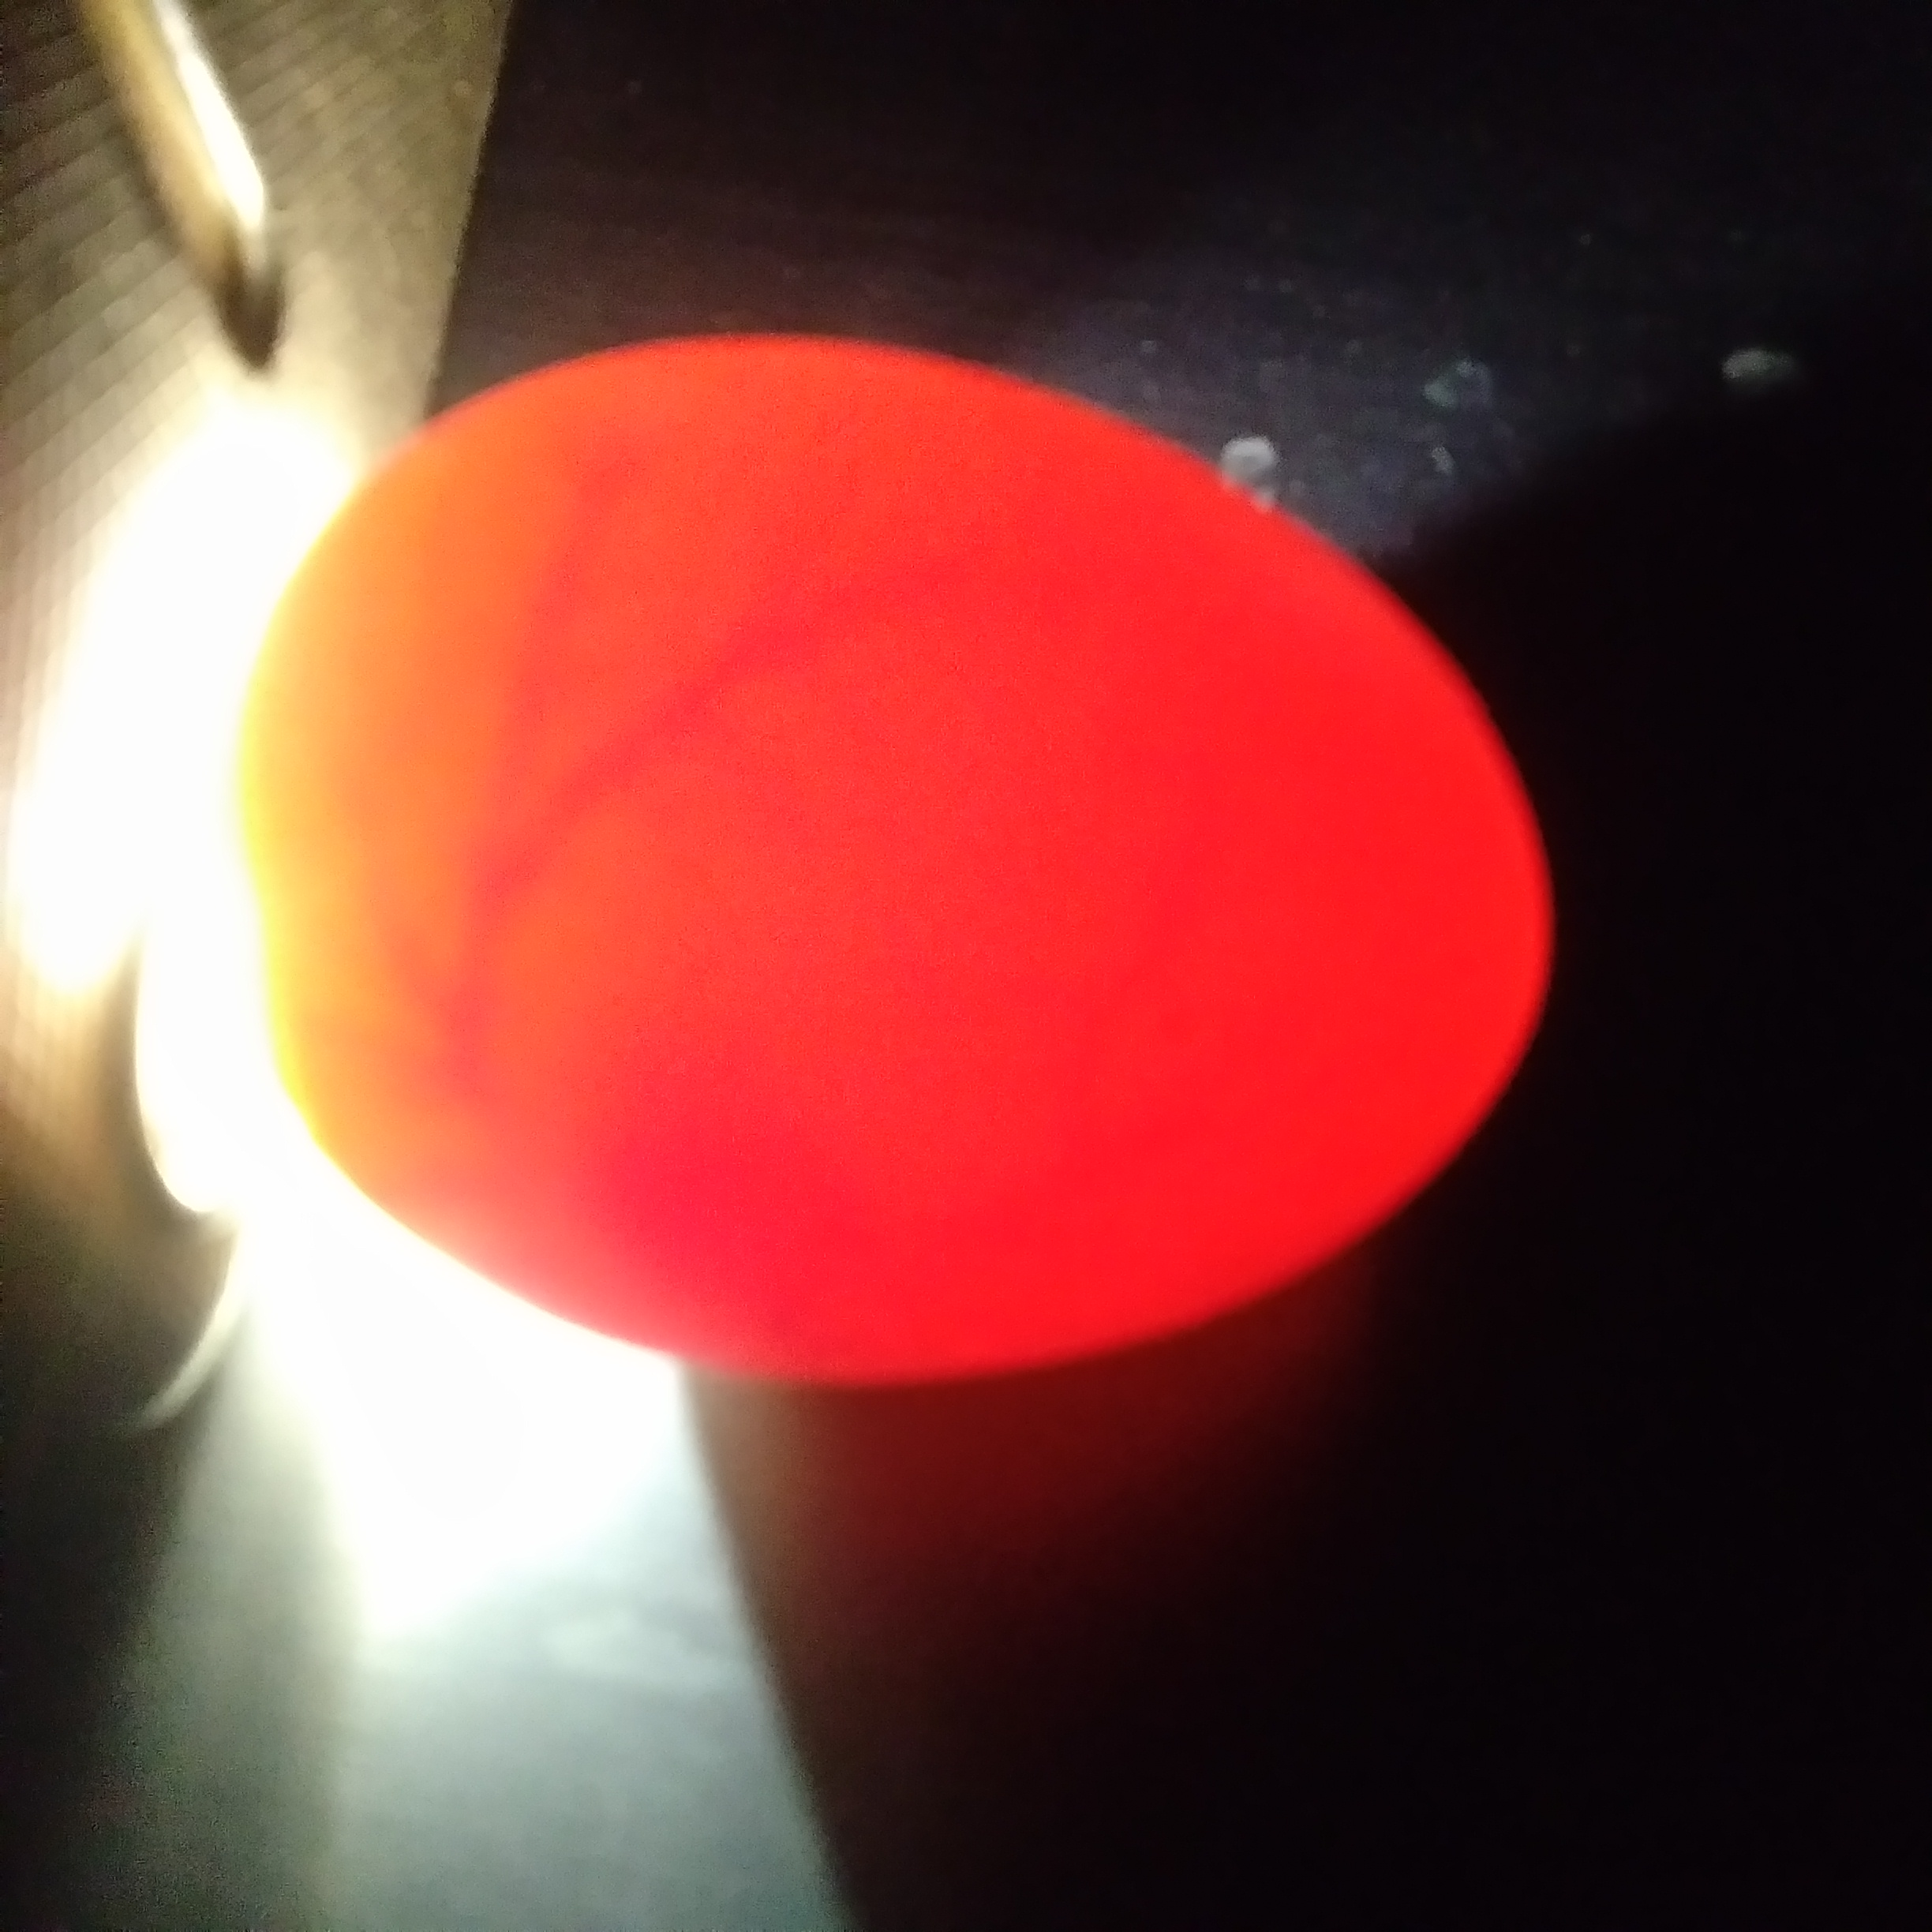bloodcell: (356, 584, 814, 1039)
